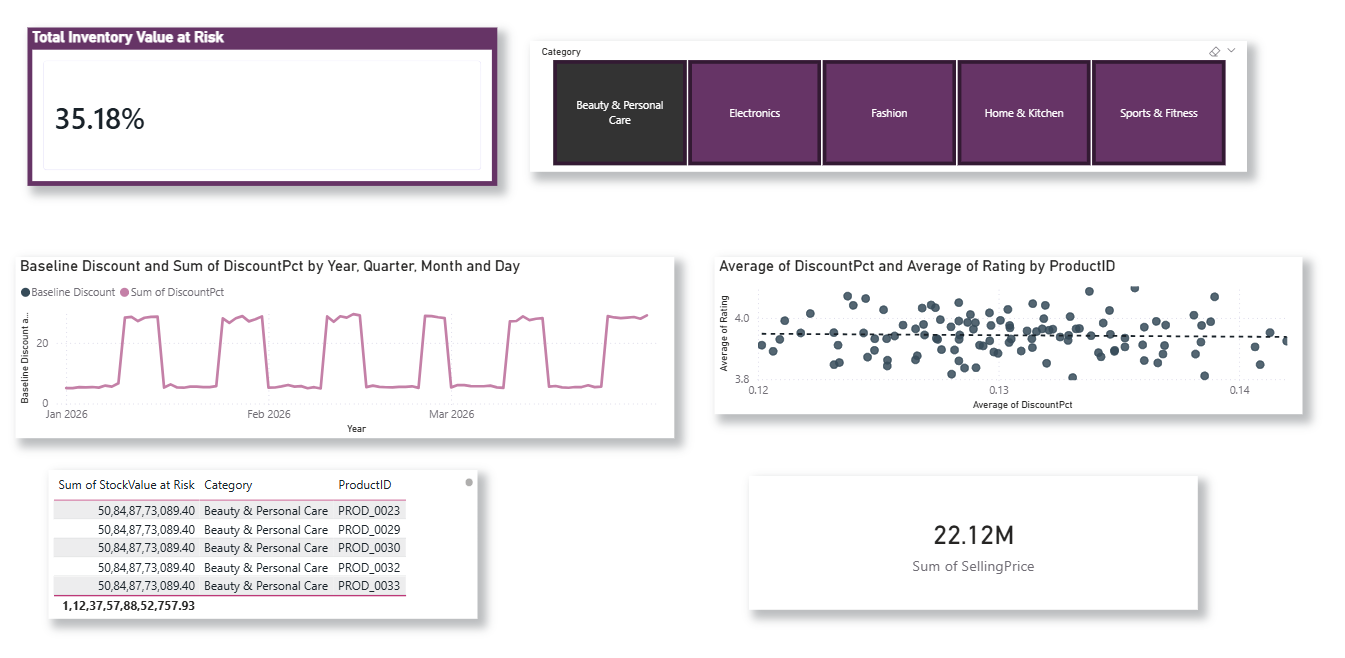

This screenshot's page, from the dashboard's own definition file:
{"tool":"powerbi","page":{"name":"Page 1","canvas":[1500,800],"ordinal":0},"visuals":[{"type":"cardVisual","title":"Total Inventory Value at Risk","fields":{"Data":["snapdeal_data.% Inventory at Risk"]},"box":[32.4,32.4,521.8,176.3],"z":0},{"type":"slicer","fields":{"Values":["snapdeal_data.Category"]},"box":[590,46.7,796.7,145],"z":2000},{"type":"lineChart","fields":{"Y":["snapdeal_data.Baseline Discount","Sum(snapdeal_data.DiscountPct)"],"Category":["snapdeal_data.Date.Variation.Date Hierarchy.Year","snapdeal_data.Date.Variation.Date Hierarchy.Quarter","snapdeal_data.Date.Variation.Date Hierarchy.Month","snapdeal_data.Date.Variation.Date Hierarchy.Day"]},"box":[18,286.1,732.3,201.5],"z":3000},{"type":"scatterChart","fields":{"X":["Avg(snapdeal_data.DiscountPct)"],"Y":["Avg(snapdeal_data.Rating)"],"Category":["snapdeal_data.ProductID"]},"box":[795.2,286.1,653.1,174.5],"z":4000},{"type":"card","fields":{"Values":["Sum(snapdeal_data.SellingPrice)"]},"box":[833.3,530,498.3,148.3],"z":5000},{"type":"tableEx","fields":{"Values":["Sum(Flagged_Exceptions_Table.StockValue at Risk)","Flagged_Exceptions_Table.Category","Flagged_Exceptions_Table.ProductID"]},"box":[55,523.3,476.7,165],"z":6001}]}

Visuals, with their boxes on the page's 1500x800 design canvas (x1, y1, x2, y2). These are canvas units, not pixel positions in the 1345x658 screenshot, which may show the page scaled, cropped or inside an application window:
"Total Inventory Value at Risk" cardVisual: l=32, t=32, r=554, b=209
slicer - snapdeal_data.Category: l=590, t=47, r=1387, b=192
lineChart - snapdeal_data.Baseline Discount x Sum(snapdeal_data.DiscountPct): l=18, t=286, r=750, b=488
scatterChart - Avg(snapdeal_data.DiscountPct) x Avg(snapdeal_data.Rating): l=795, t=286, r=1448, b=461
card - Sum(snapdeal_data.SellingPrice): l=833, t=530, r=1332, b=678
tableEx - Sum(Flagged_Exceptions_Table.StockValue at Risk) x Flagged_Exceptions_Table.Category: l=55, t=523, r=532, b=688
